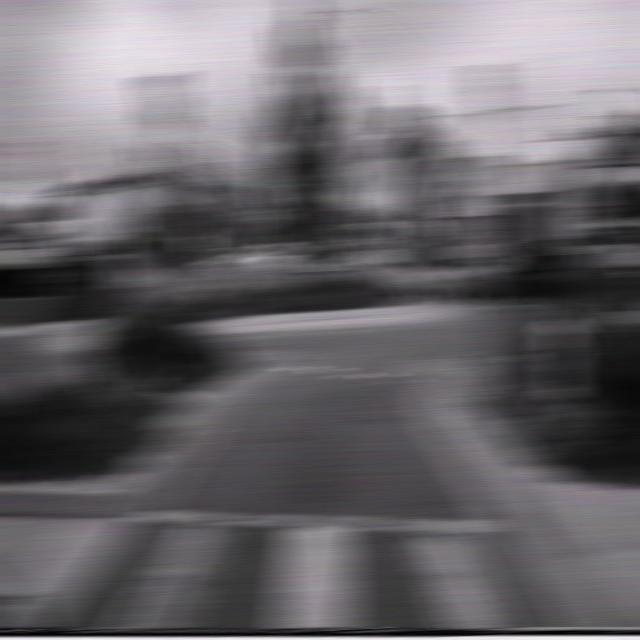yield: (136, 69, 188, 135), (458, 152, 509, 213)
